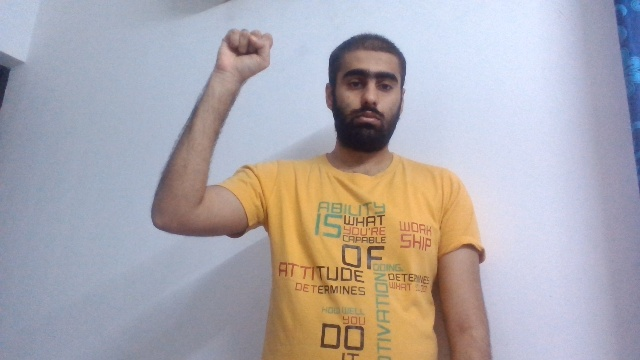rock: (209, 27, 274, 81)
